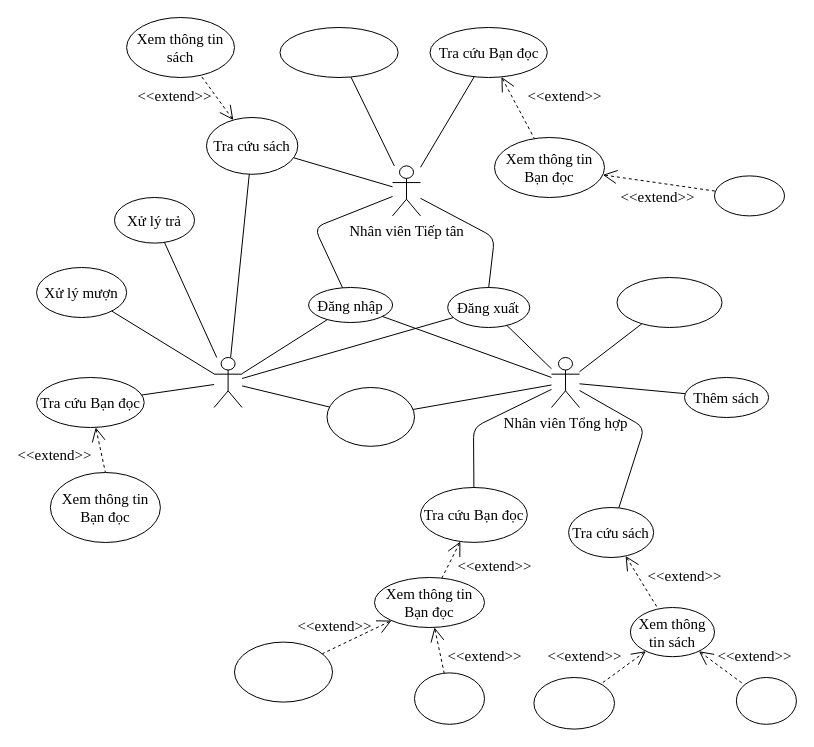
Image size: 814x747. Some labels were removed from this diagram. The shapes that lost their labels are listed below. From the top down, each one's centre as x and y in pixels, then its label:
(x=338, y=52): Đăng ký bạn đọc
(x=749, y=195): Gia hạn thẻ
(x=669, y=302): Xuất báo cáo thống kê
(x=227, y=382): Nhân viên Phục vụ bạn đọc
(x=370, y=416): Xem lịch sử mượn trả
(x=283, y=671): Sửa thông tin Bạn đọc
(x=449, y=698): Xóa Bạn đọc
(x=573, y=702): Sửa thông tin sách
(x=765, y=700): Xóa sách
